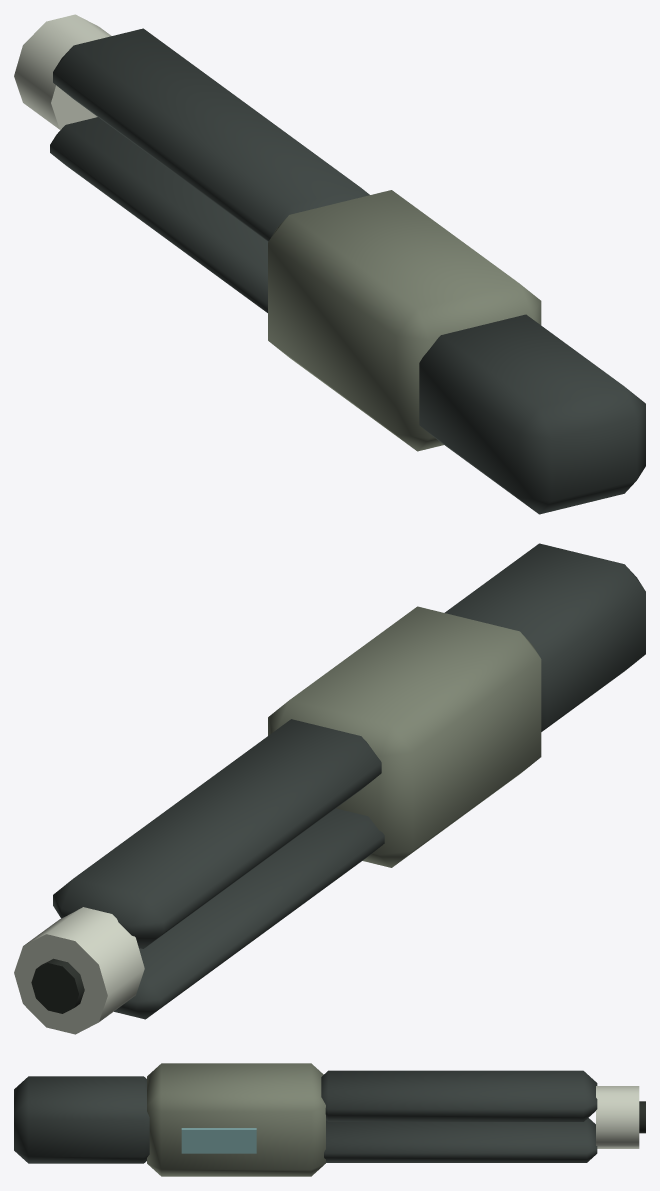
The model's file is lancer_weapon.obj.
3 views of the same model, one above another, from view 1: azimuth 30°, elevation 25°; view 2: azimuth 150°, elevation 25°; view 3: azimuth 270°, elevation 25° (orthographic). The views are drawn at different scales.
Visible parts, largest first — view 1: rigid_shell_001, rigid_shell_000, rigid_shell_002, rigid_shell_003, rigid_shell_004; view 2: rigid_shell_001, rigid_shell_002, rigid_shell_000, rigid_shell_003, rigid_shell_004, rigid_shell_005; view 3: rigid_shell_001, rigid_shell_002, rigid_shell_000, rigid_shell_003, rigid_shell_004, rigid_shell_006, rigid_shell_005.
Part boxes in pixels (left/top/right/bottom): rigid_shell_001: left=268, top=190, right=541, bottom=451; rigid_shell_000: left=419, top=314, right=645, bottom=514; rigid_shell_002: left=53, top=28, right=369, bottom=241; rigid_shell_003: left=50, top=117, right=267, bottom=312; rigid_shell_004: left=14, top=14, right=111, bottom=129; rigid_shell_001: left=268, top=606, right=541, bottom=867; rigid_shell_002: left=53, top=719, right=381, bottom=948; rigid_shell_000: left=444, top=543, right=645, bottom=731; rigid_shell_003: left=114, top=808, right=384, bottom=1019; rigid_shell_004: left=14, top=907, right=144, bottom=1034; rigid_shell_005: left=31, top=958, right=84, bottom=1013; rigid_shell_001: left=147, top=1063, right=325, bottom=1176; rigid_shell_002: left=321, top=1070, right=597, bottom=1121; rigid_shell_000: left=14, top=1076, right=149, bottom=1163; rigid_shell_003: left=324, top=1118, right=597, bottom=1162; rigid_shell_004: left=596, top=1086, right=639, bottom=1148; rigid_shell_006: left=181, top=1128, right=256, bottom=1153; rigid_shell_005: left=639, top=1101, right=645, bottom=1133.
Size of the model in its own units: 0.18 by 0.16 by 1.09.
